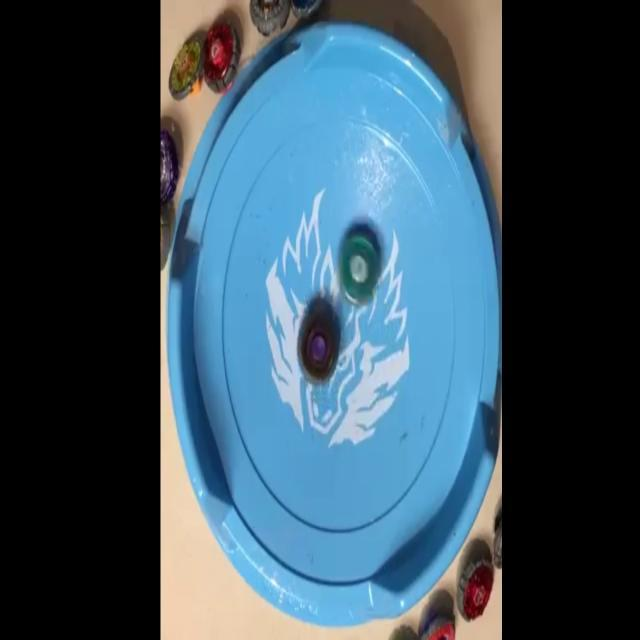Beyblade: (201, 21, 239, 93), (339, 238, 379, 304), (298, 318, 337, 384), (456, 558, 494, 622), (170, 38, 202, 100)
